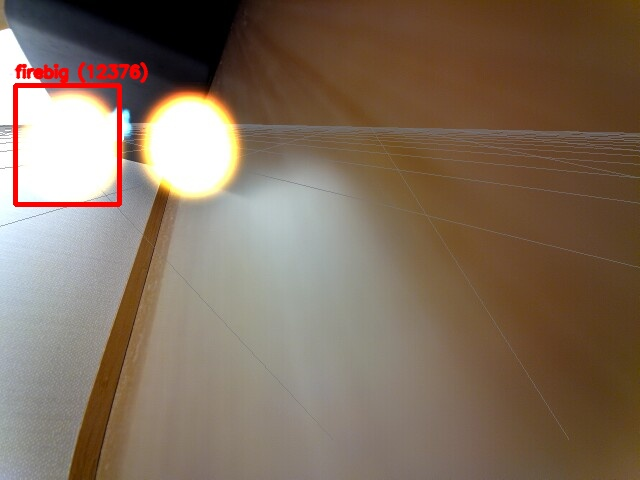firebig: (15, 85, 119, 204)
